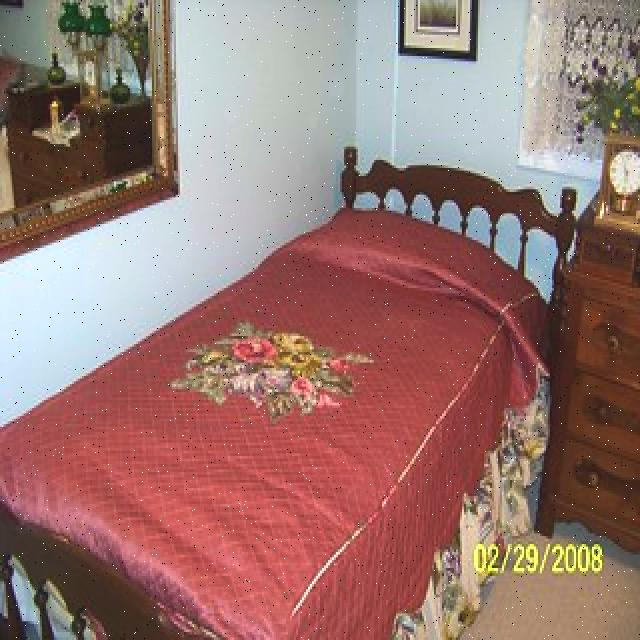bed: (0, 161, 575, 640)
